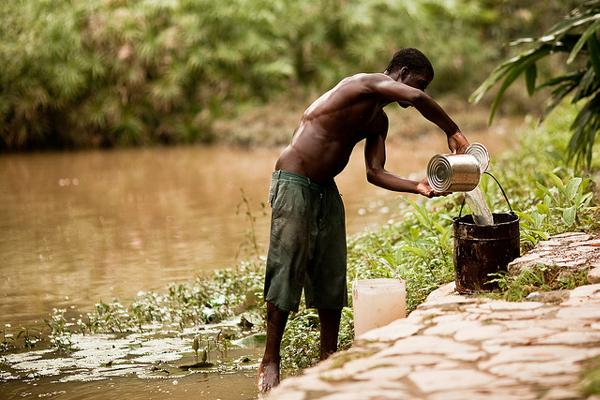person: (260, 49, 472, 396)
